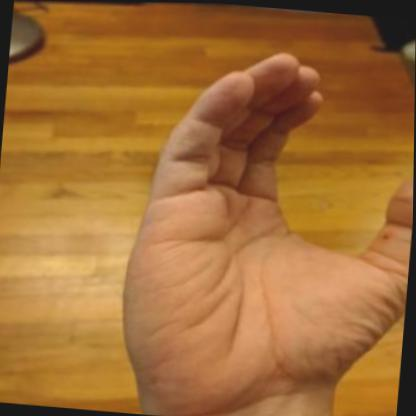C: (97, 24, 416, 416)
